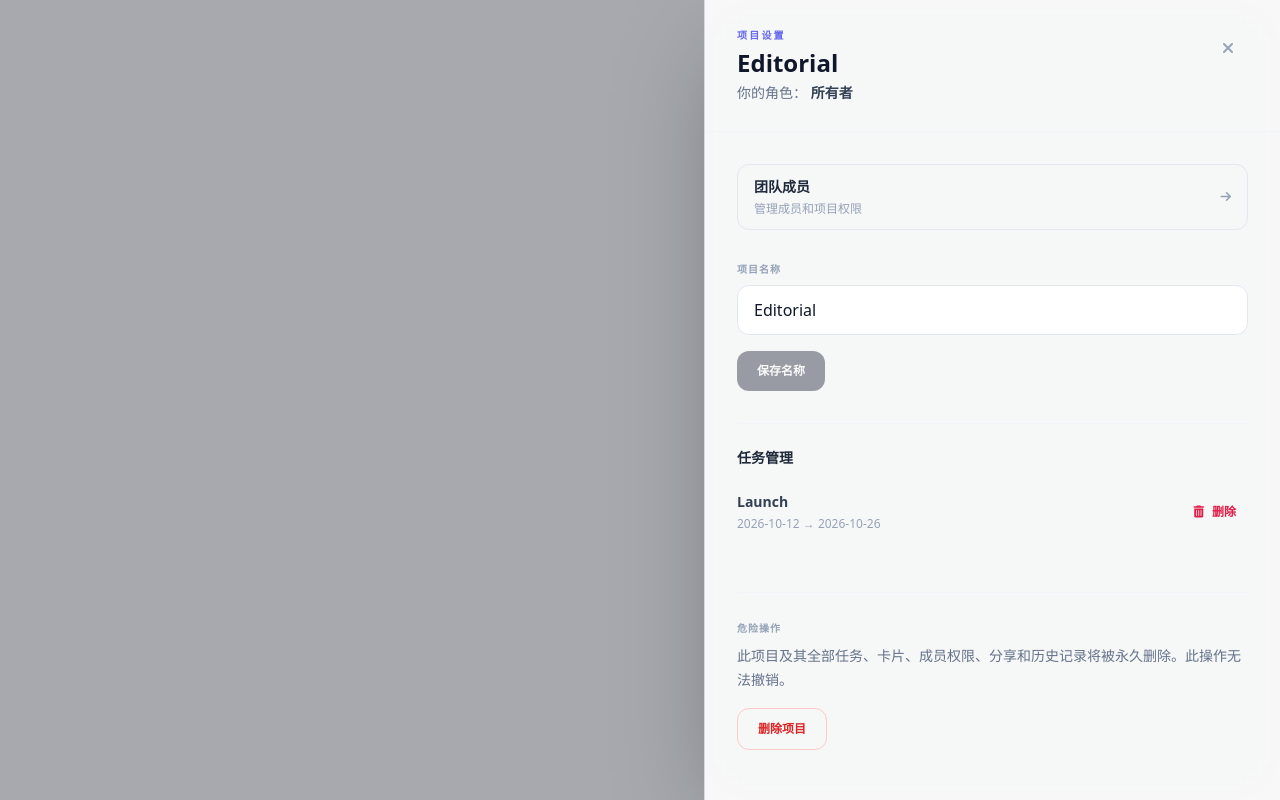
it: project permanent deletion in project settings › describes permanent deletion and the affected data in Chinese
Click the button "删除项目" at (782, 729), box [737, 708, 827, 750]
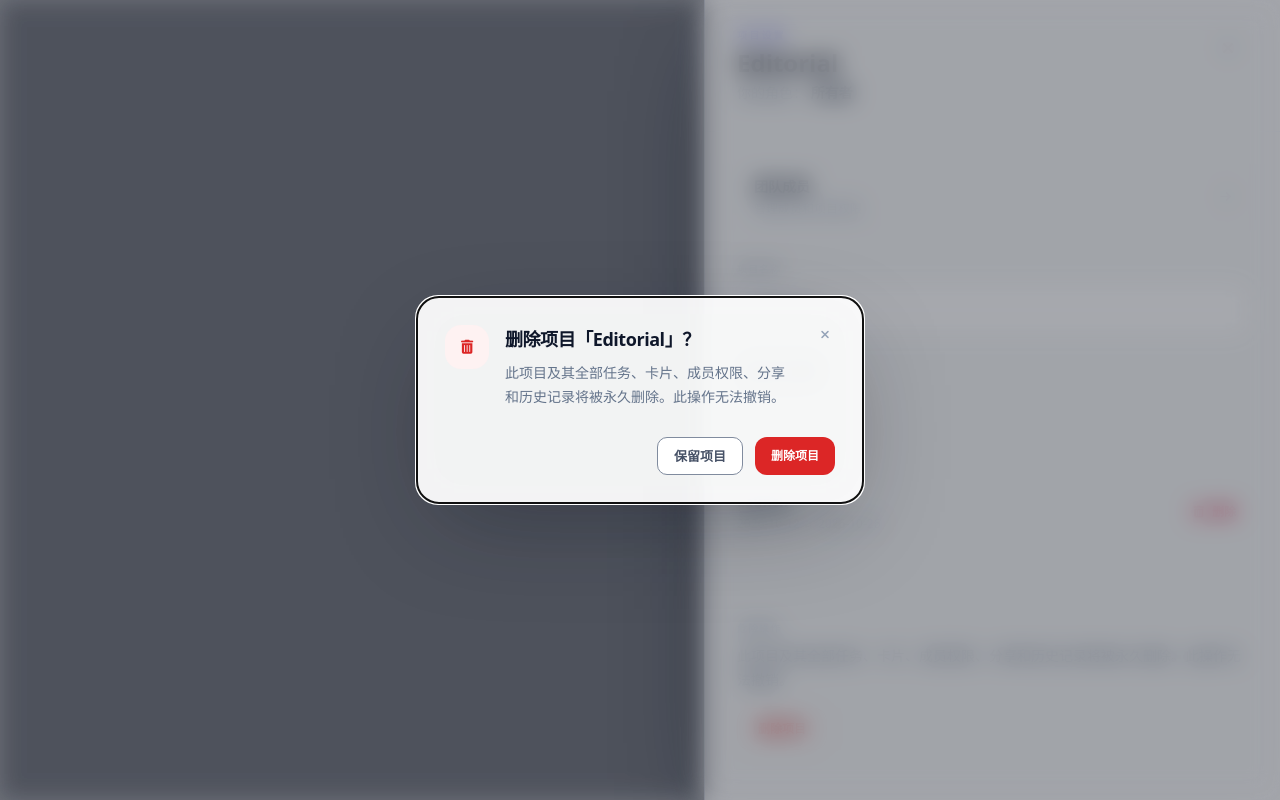
Expected: the text "此项目及其全部任务、卡片、成员权限、分享和历史记录将被永久删除。此操作无法撤销。" is shown, [505, 361, 791, 409]
